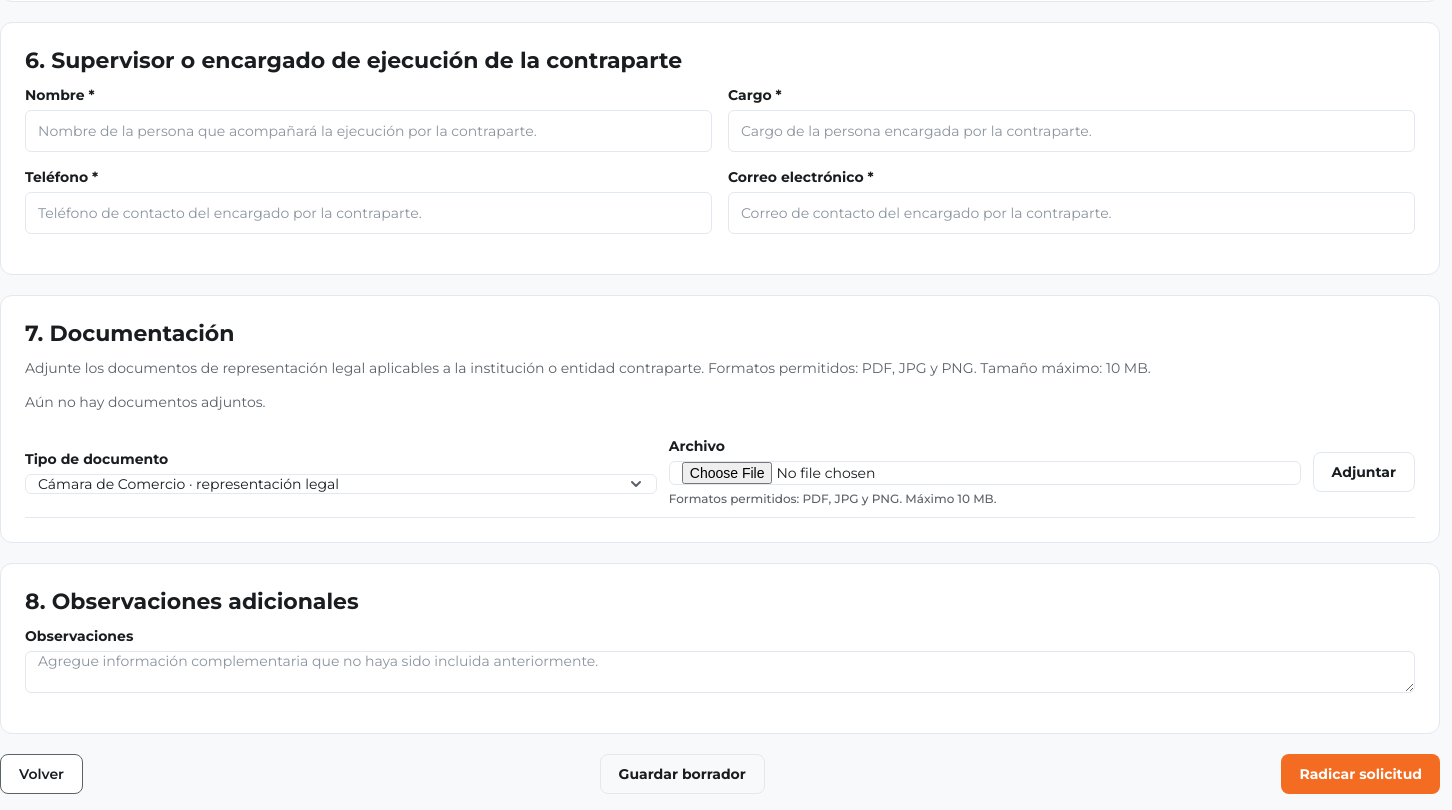
Test case: validación de formato en el formulario de solicitud (HT14-FE02) › guarda un borrador incompleto sin exigir los obligatorios (CA-05)
(page scrolled)
Click the button "Guardar borrador".
click(682, 774)  # box [600, 754, 765, 794]
(page scrolled)
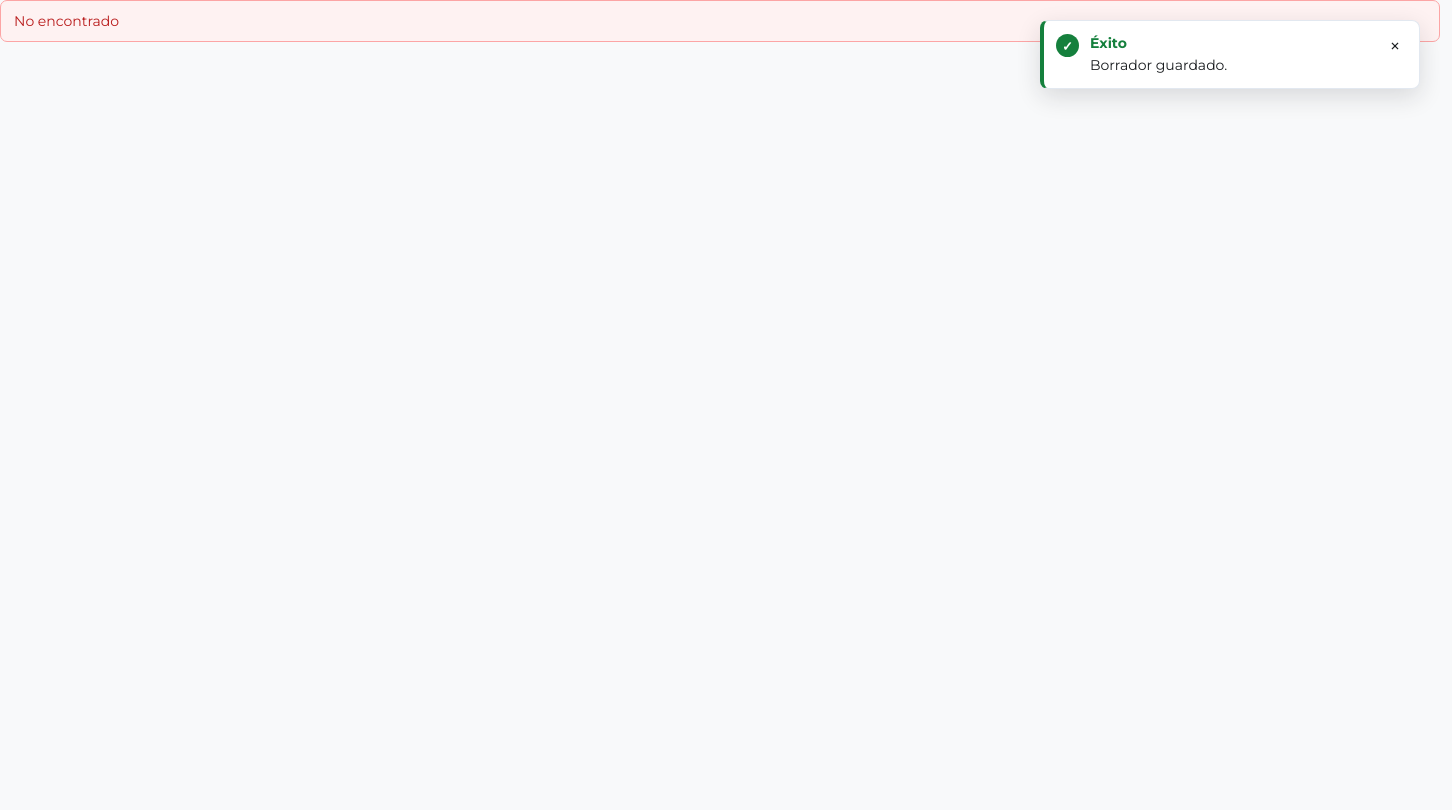
Expected: the text "Borrador guardado." is shown, [1090, 56, 1227, 74]
